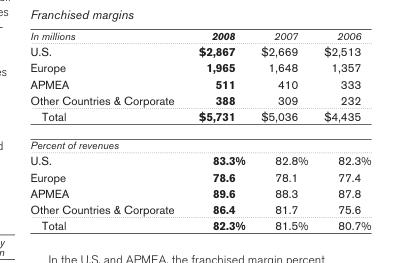table: (29, 29, 370, 231)
table column: (29, 29, 185, 231), (185, 29, 252, 231), (252, 29, 315, 231), (315, 29, 370, 231)
table column header: (29, 29, 370, 42)
table projected row header: (29, 130, 370, 152)
table row: (29, 107, 370, 130), (29, 130, 370, 152), (29, 42, 370, 59), (29, 59, 370, 75), (29, 75, 370, 91), (29, 91, 370, 107), (29, 152, 370, 168), (29, 168, 370, 184), (29, 184, 370, 200), (29, 200, 370, 216), (29, 216, 370, 231), (29, 29, 370, 42)
